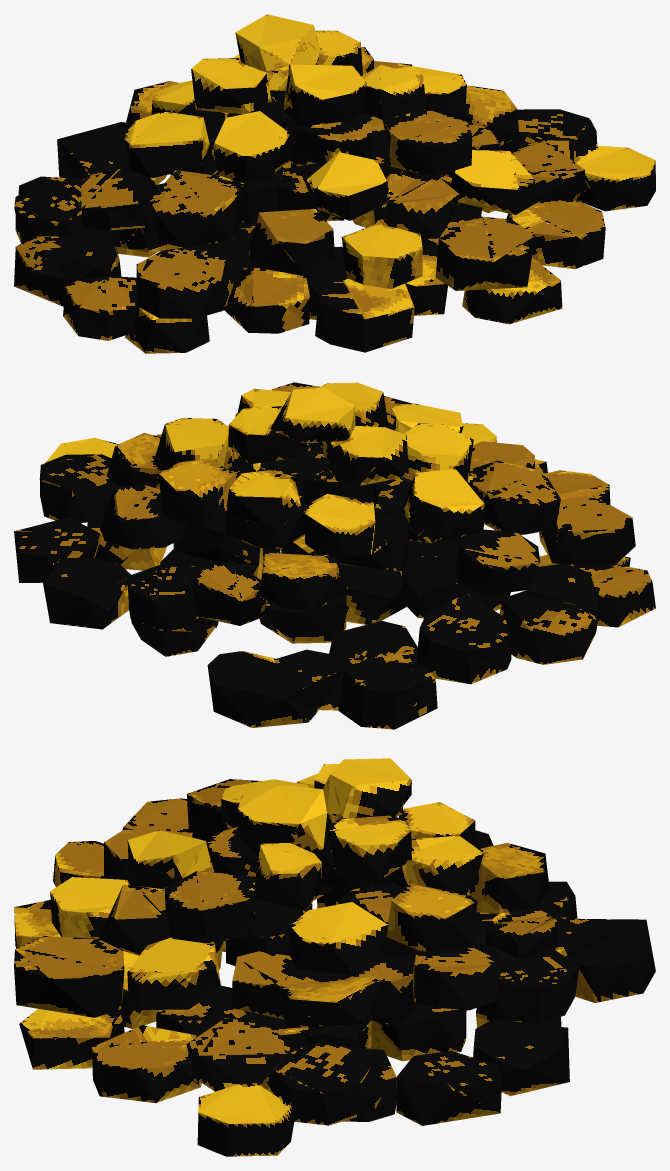
3 renders of one model, top to bottom at view 1: azimuth 30°, elevation 25°; view 2: azimuth 150°, elevation 25°; view 3: azimuth 270°, elevation 25°, orthographic. The views are drawn at different scales.
Parts seen in each view (by area): view 1: OBJ0a0; view 2: OBJ0a0; view 3: OBJ0a0.
Boxes of the visible parts, x1=… form: OBJ0a0: x1=14, y1=14, x2=655, y2=353; OBJ0a0: x1=14, y1=382, x2=655, y2=729; OBJ0a0: x1=14, y1=758, x2=655, y2=1156.
Size of the model in its own units: 0.4212 by 0.1519 by 0.3601.
1 material, 1 textured.
